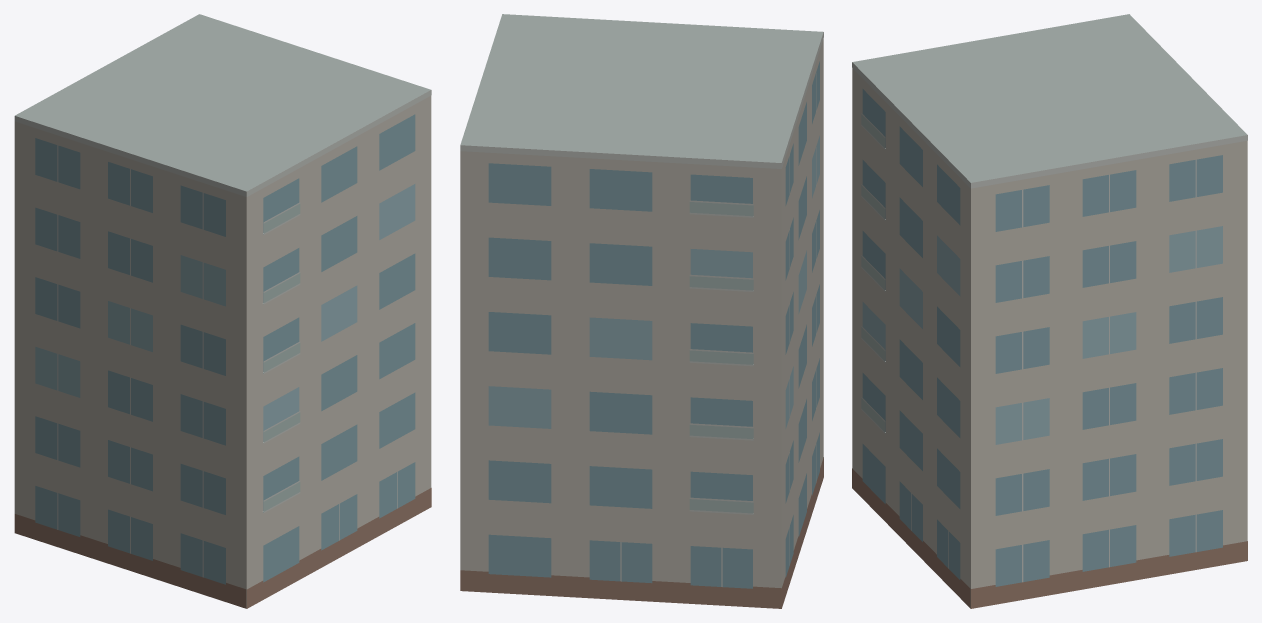
File: survey-upis-32988167.glb
The picture shows the model from 3 angles, left to right: view 1: azimuth 30°, elevation 25°; view 2: azimuth 150°, elevation 25°; view 3: azimuth 270°, elevation 25°; orthographic projection. The views are drawn at different scales.
Visible parts, largest first — view 1: survey-upis-32988167.tmp; view 2: survey-upis-32988167.tmp; view 3: survey-upis-32988167.tmp.
Boxes of the visible parts, <box> form: survey-upis-32988167.tmp: <box>14,14,431,608</box>; survey-upis-32988167.tmp: <box>460,14,823,608</box>; survey-upis-32988167.tmp: <box>852,14,1247,608</box>.
Size of the model in its own units: 15.58 by 18.3 by 15.42.
